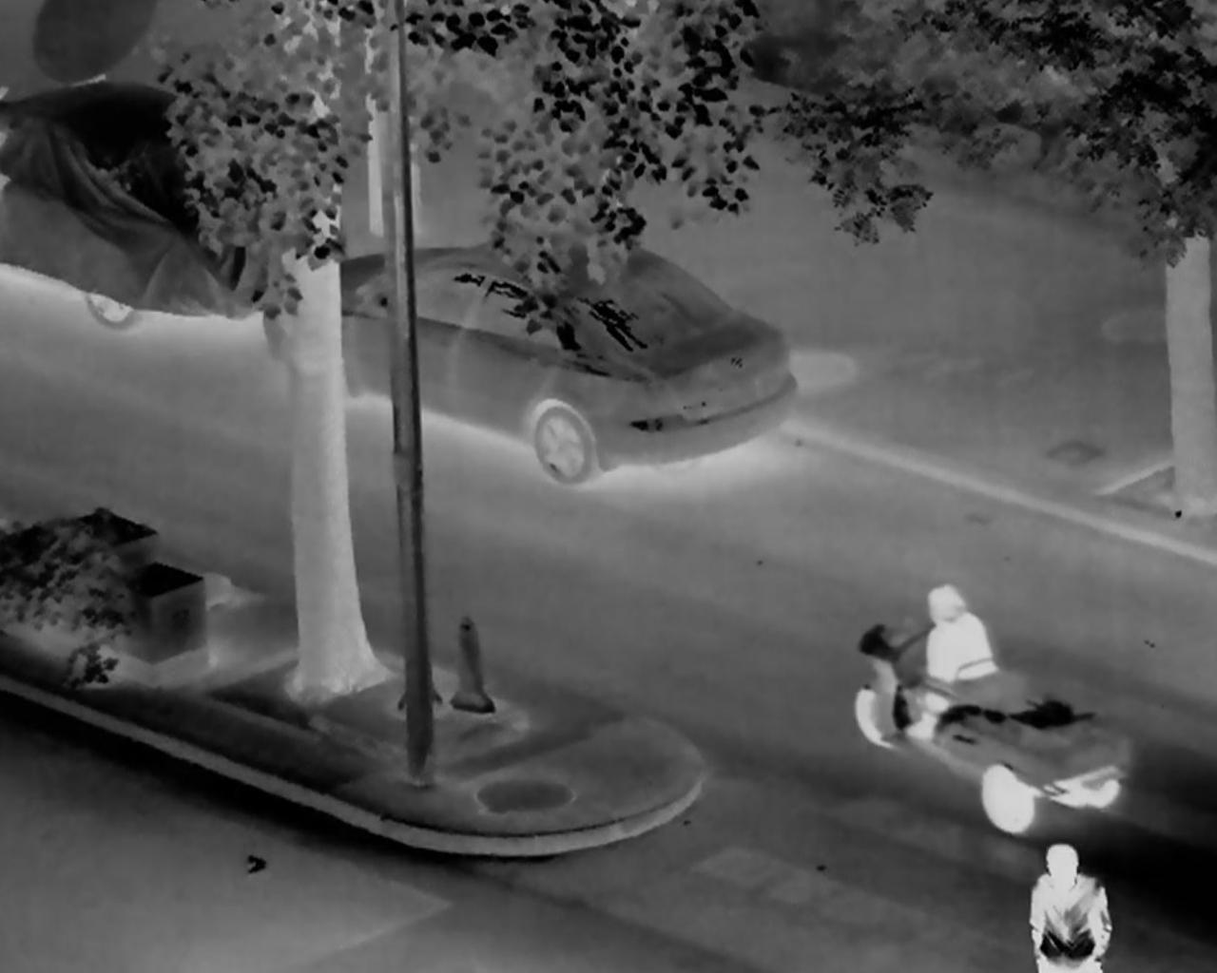person: (906, 583, 999, 741), (1028, 845, 1111, 972)
